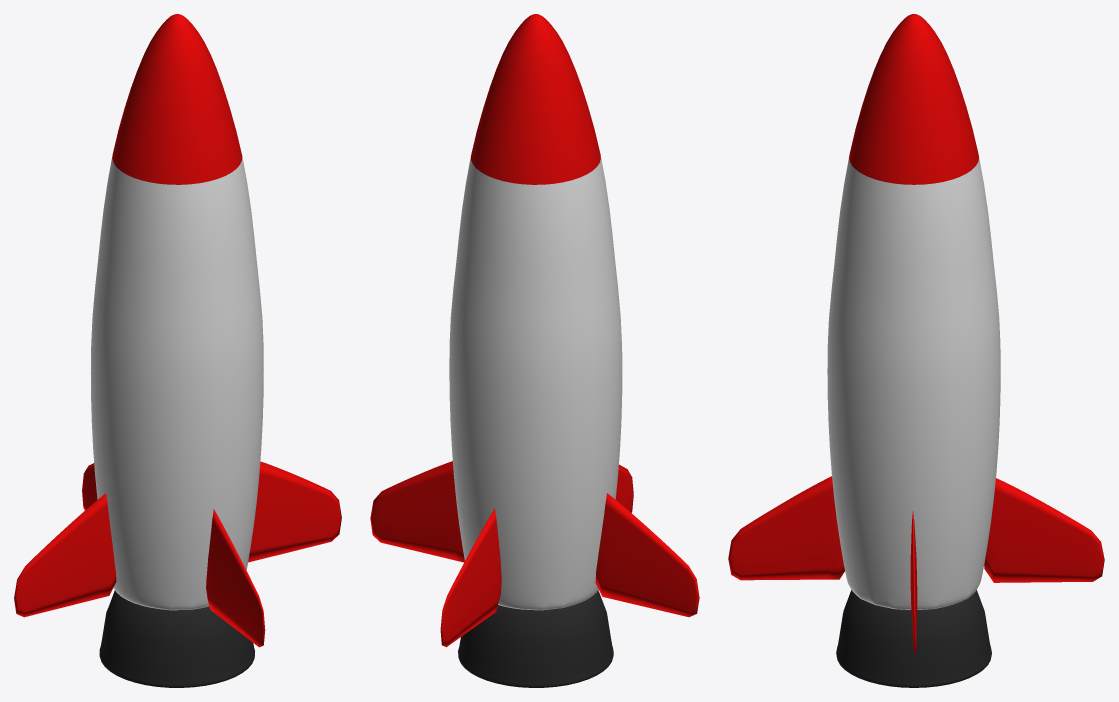
Rendered from fogueteexport.fbx.
3 renders of one model, left to right at view 1: azimuth 30°, elevation 25°; view 2: azimuth 150°, elevation 25°; view 3: azimuth 270°, elevation 25°, orthographic.
Parts seen in each view (by area): view 1: pSphere2, pCylinder3, pCube3, pCube4, pCube2, pCube1; view 2: pSphere2, pCylinder3, pCube3, pCube4, pCube1, pCube2; view 3: pSphere2, pCylinder3, pCube1, pCube2, pCube4.
Part boxes in pixels (x1=…): pSphere2: x1=90, y1=14, x2=263, y2=610; pCylinder3: x1=99, y1=590, x2=254, y2=687; pCube3: x1=14, y1=493, x2=116, y2=617; pCube4: x1=248, y1=461, x2=341, y2=562; pCube2: x1=206, y1=509, x2=265, y2=647; pCube1: x1=82, y1=463, x2=97, y2=510; pSphere2: x1=449, y1=14, x2=622, y2=610; pCylinder3: x1=458, y1=590, x2=613, y2=687; pCube3: x1=595, y1=493, x2=699, y2=617; pCube4: x1=370, y1=461, x2=464, y2=562; pCube1: x1=440, y1=508, x2=501, y2=647; pCube2: x1=615, y1=464, x2=633, y2=512; pSphere2: x1=827, y1=14, x2=1000, y2=609; pCylinder3: x1=836, y1=590, x2=991, y2=687; pCube1: x1=984, y1=478, x2=1104, y2=582; pCube2: x1=728, y1=476, x2=844, y2=580; pCube4: x1=910, y1=511, x2=917, y2=654.
Size of the model in its own units: 11.97 by 22.33 by 11.88.
